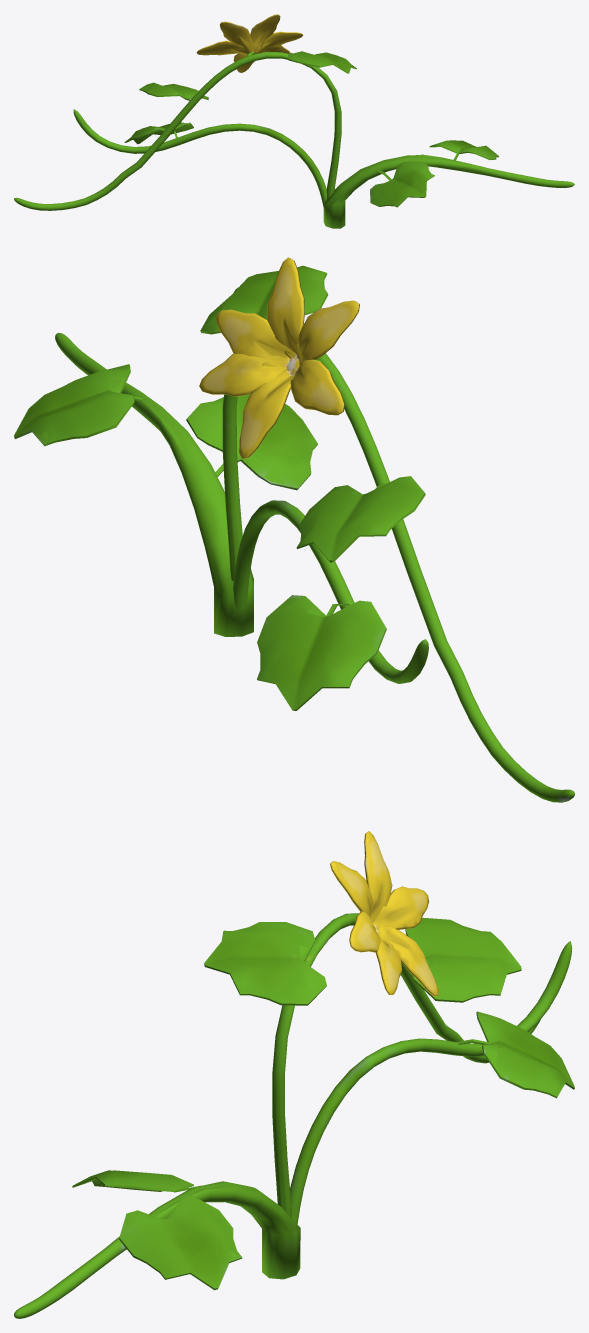
The model's file is pumpkin2.fbx.
The picture shows the model from 3 angles, top to bottom: view 1: azimuth 30°, elevation 25°; view 2: azimuth 150°, elevation 25°; view 3: azimuth 270°, elevation 25°; orthographic projection. The views are drawn at different scales.
Visible parts, largest first — view 1: pumpkin_st2; view 2: pumpkin_st2; view 3: pumpkin_st2.
Boxes of the visible parts, box(x1,y1,x2,y2) form: pumpkin_st2: box(14, 14, 574, 228); pumpkin_st2: box(14, 257, 574, 802); pumpkin_st2: box(14, 831, 574, 1318).
Size of the model in its own units: 1.88 by 0.9211 by 1.25.
1 material, 1 textured.
